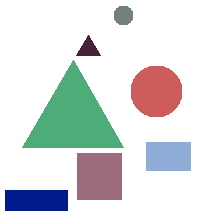circle: (131, 66, 181, 116), (114, 6, 132, 24)
rectangle: (77, 153, 121, 199), (5, 190, 67, 210), (146, 142, 190, 170)
triangle: (22, 60, 123, 147), (76, 35, 100, 55)
